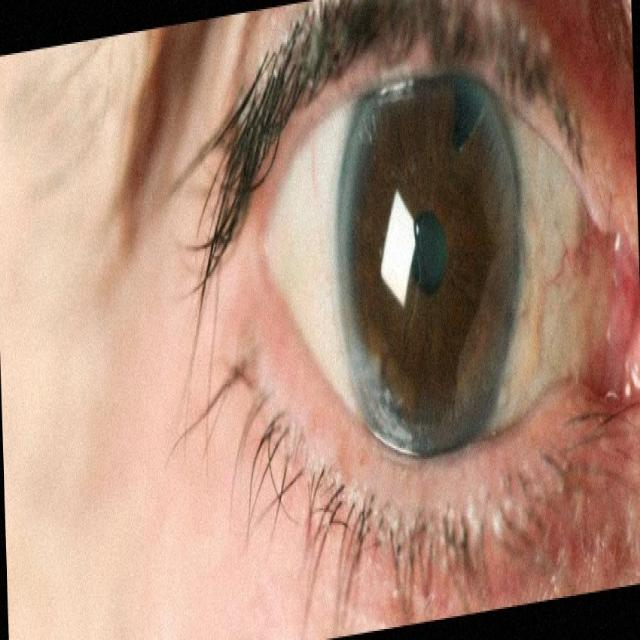Cataract: (242, 73, 589, 505)
